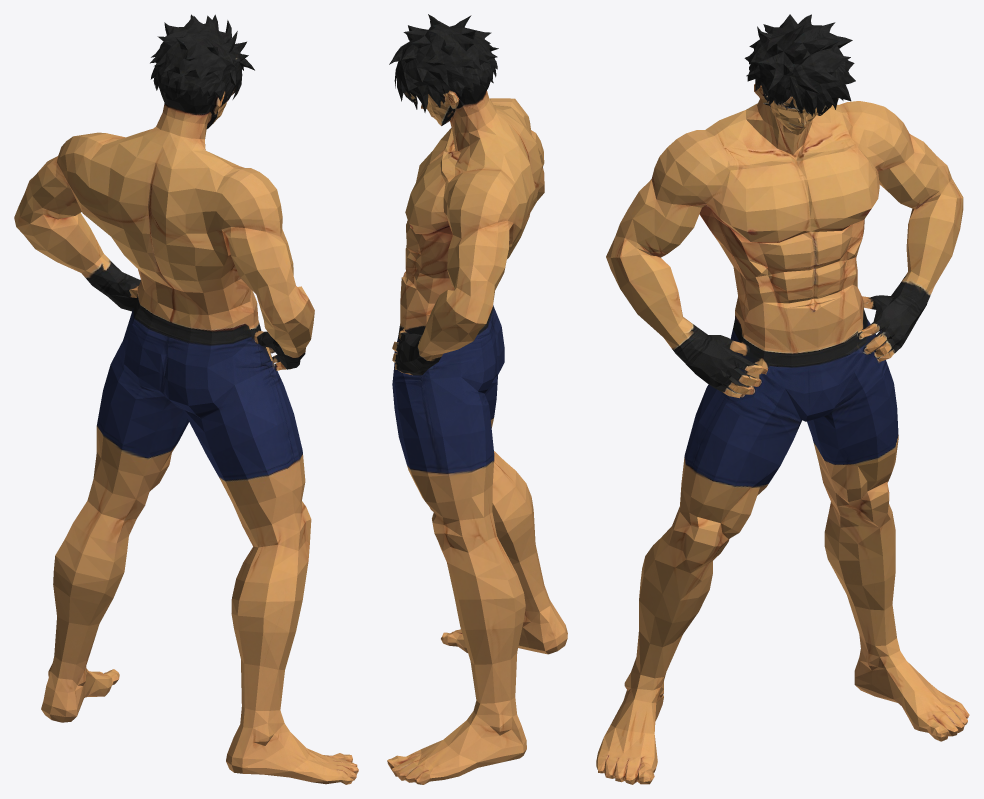
Rendered from Avatar02.glb.
The picture shows the model from 3 angles, left to right: view 1: azimuth 30°, elevation 25°; view 2: azimuth 150°, elevation 25°; view 3: azimuth 270°, elevation 25°; orthographic projection. The views are drawn at different scales.
Parts seen in each view (by area): view 1: tripo_node_e7c9de99-5449-4fc7-8f12-5c1920202900; view 2: tripo_node_e7c9de99-5449-4fc7-8f12-5c1920202900; view 3: tripo_node_e7c9de99-5449-4fc7-8f12-5c1920202900.
Boxes of the visible parts, x1,y1,x2,y2 form: tripo_node_e7c9de99-5449-4fc7-8f12-5c1920202900: [14, 14, 358, 784]; tripo_node_e7c9de99-5449-4fc7-8f12-5c1920202900: [387, 14, 567, 784]; tripo_node_e7c9de99-5449-4fc7-8f12-5c1920202900: [596, 14, 969, 784].
Size of the model in its own units: 0.291 by 0.998 by 0.4629.
Materials: 1 (1 with a texture image).
